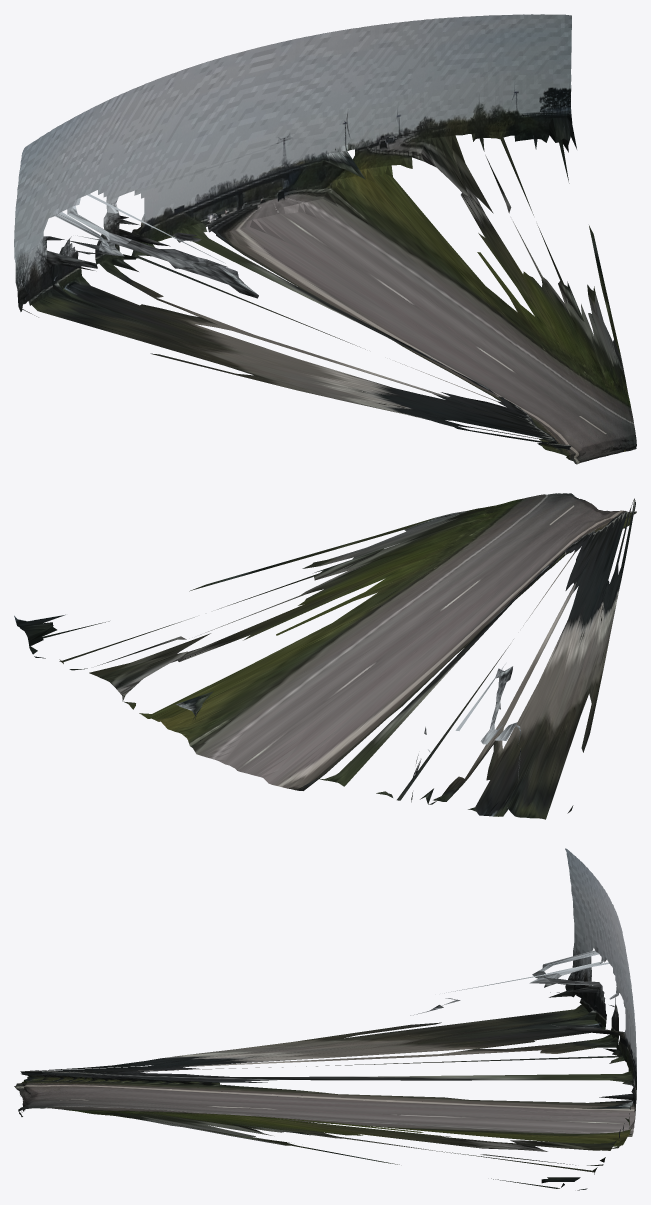
3 renders of one model, top to bottom at view 1: azimuth 30°, elevation 25°; view 2: azimuth 150°, elevation 25°; view 3: azimuth 270°, elevation 25°, orthographic. The views are drawn at different scales.
Visible parts, largest first — view 1: defaultobject; view 2: defaultobject; view 3: defaultobject.
Boxes of the visible parts, x1=… form: defaultobject: x1=14, y1=14, x2=636, y2=464; defaultobject: x1=14, y1=493, x2=636, y2=819; defaultobject: x1=14, y1=848, x2=636, y2=1190.
Bounding box in the file's own units: 41.12 × 13.15 × 44.73.
1 material, 1 textured.
